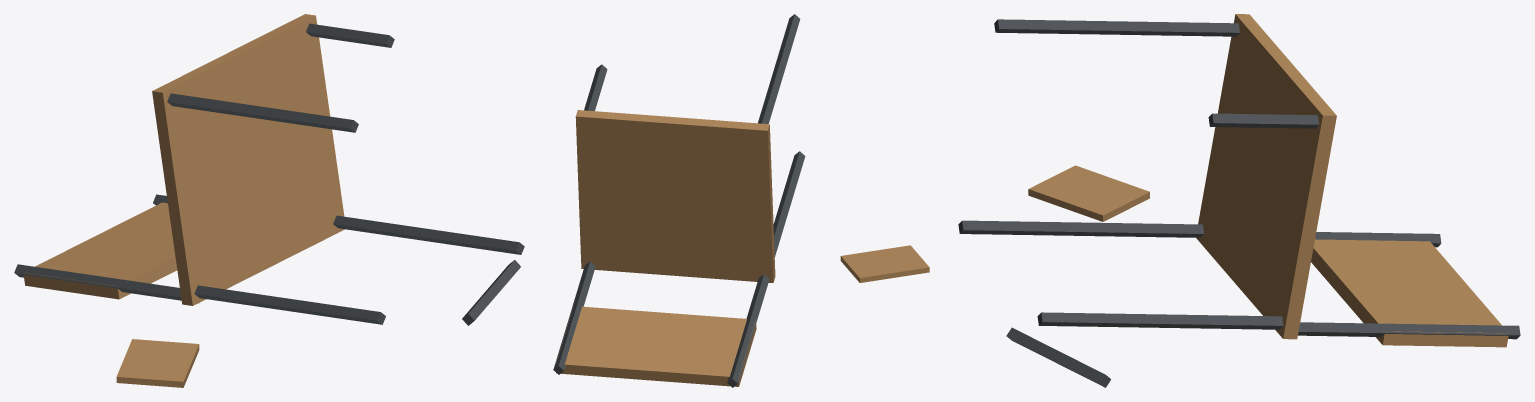
The model's file is chair_broken.glb.
3 renders of one model, left to right at view 1: azimuth 30°, elevation 25°; view 2: azimuth 150°, elevation 25°; view 3: azimuth 270°, elevation 25°, orthographic. The views are drawn at different scales.
Visible parts, largest first — view 1: BrokenChair; view 2: BrokenChair; view 3: BrokenChair.
Part boxes in pixels (x1,y1,x2,y2): BrokenChair: [14, 14, 524, 387]; BrokenChair: [553, 14, 929, 387]; BrokenChair: [958, 14, 1520, 387].
Size of the model in its own units: 0.847 by 0.5425 by 0.9231.
